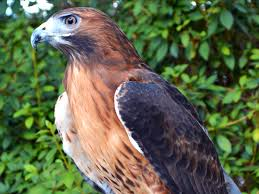nontarget: (27, 2, 238, 194)
